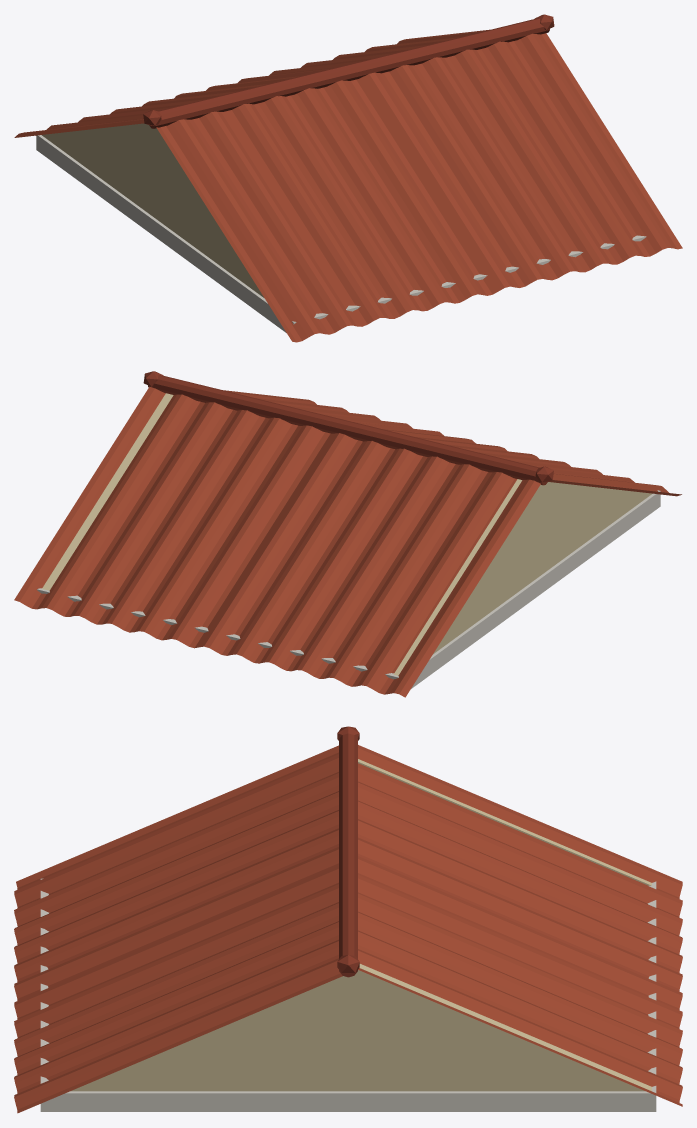
The model's file is mai_ngoi_60.glb.
3 views of the same model, one above another, from view 1: azimuth 30°, elevation 25°; view 2: azimuth 150°, elevation 25°; view 3: azimuth 270°, elevation 25° (orthographic). The views are drawn at different scales.
Parts seen in each view (by area): view 1: mai_ngoi_60; view 2: mai_ngoi_60; view 3: mai_ngoi_60.
Part boxes in pixels (x1,y1,x2,y2): mai_ngoi_60: (14,14,682,342); mai_ngoi_60: (14,371,681,697); mai_ngoi_60: (14,726,682,1113).
Bounding box in the file's own units: 6.79 × 2.18 × 8.04.
